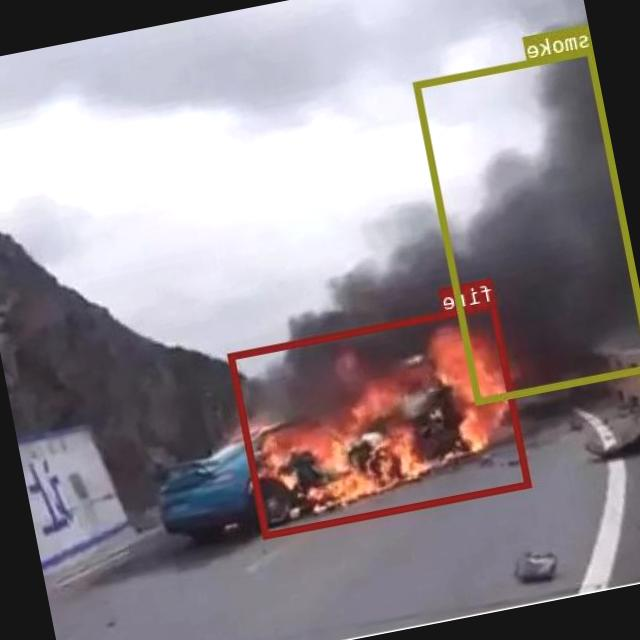fire: (228, 301, 532, 538)
smoke: (415, 45, 640, 402)
